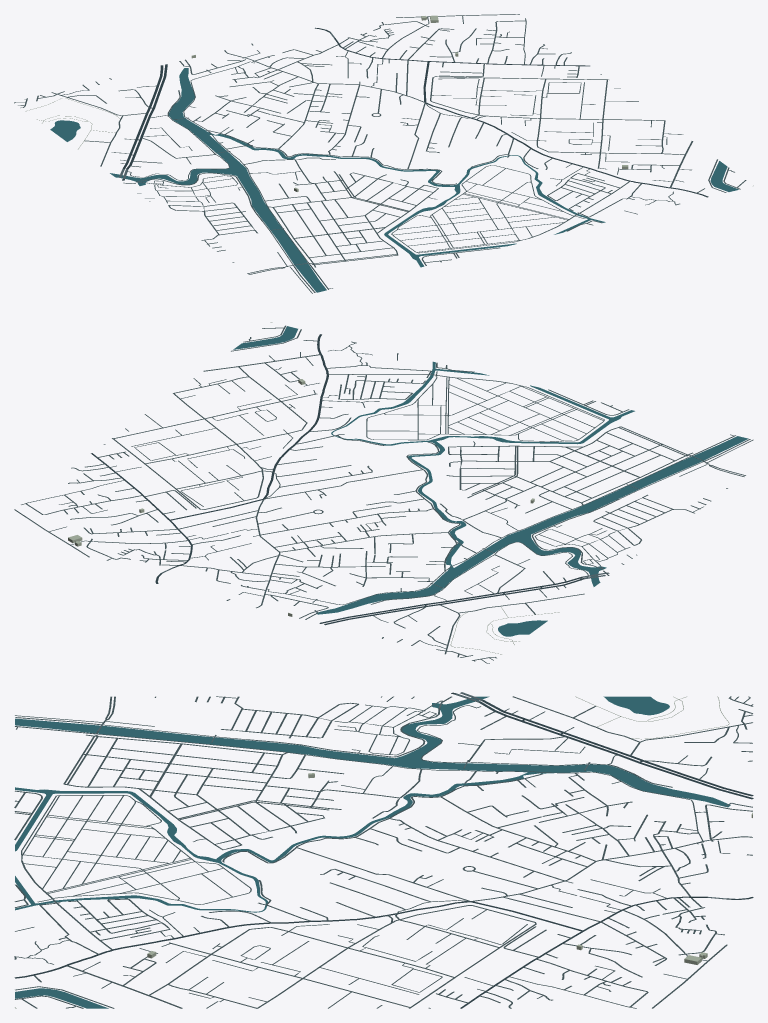
The picture shows the model from 3 angles, top to bottom: view 1: azimuth 30°, elevation 25°; view 2: azimuth 150°, elevation 25°; view 3: azimuth 270°, elevation 25°; orthographic projection. The views are drawn at different scales.
Visible parts, largest first — view 1: street, water, major; view 2: street, water, major; view 3: street, water, major.
Part boxes in pixels (x1,y1,x2,y2): street: [14, 14, 746, 293]; water: [50, 68, 738, 292]; major: [122, 27, 708, 197]; street: [14, 325, 753, 663]; water: [233, 326, 748, 636]; major: [91, 334, 609, 625]; street: [14, 696, 753, 1008]; water: [15, 696, 730, 1008]; major: [14, 692, 753, 1008].
Bounding box in the file's own units: 2006 × 12.42 × 2005.
